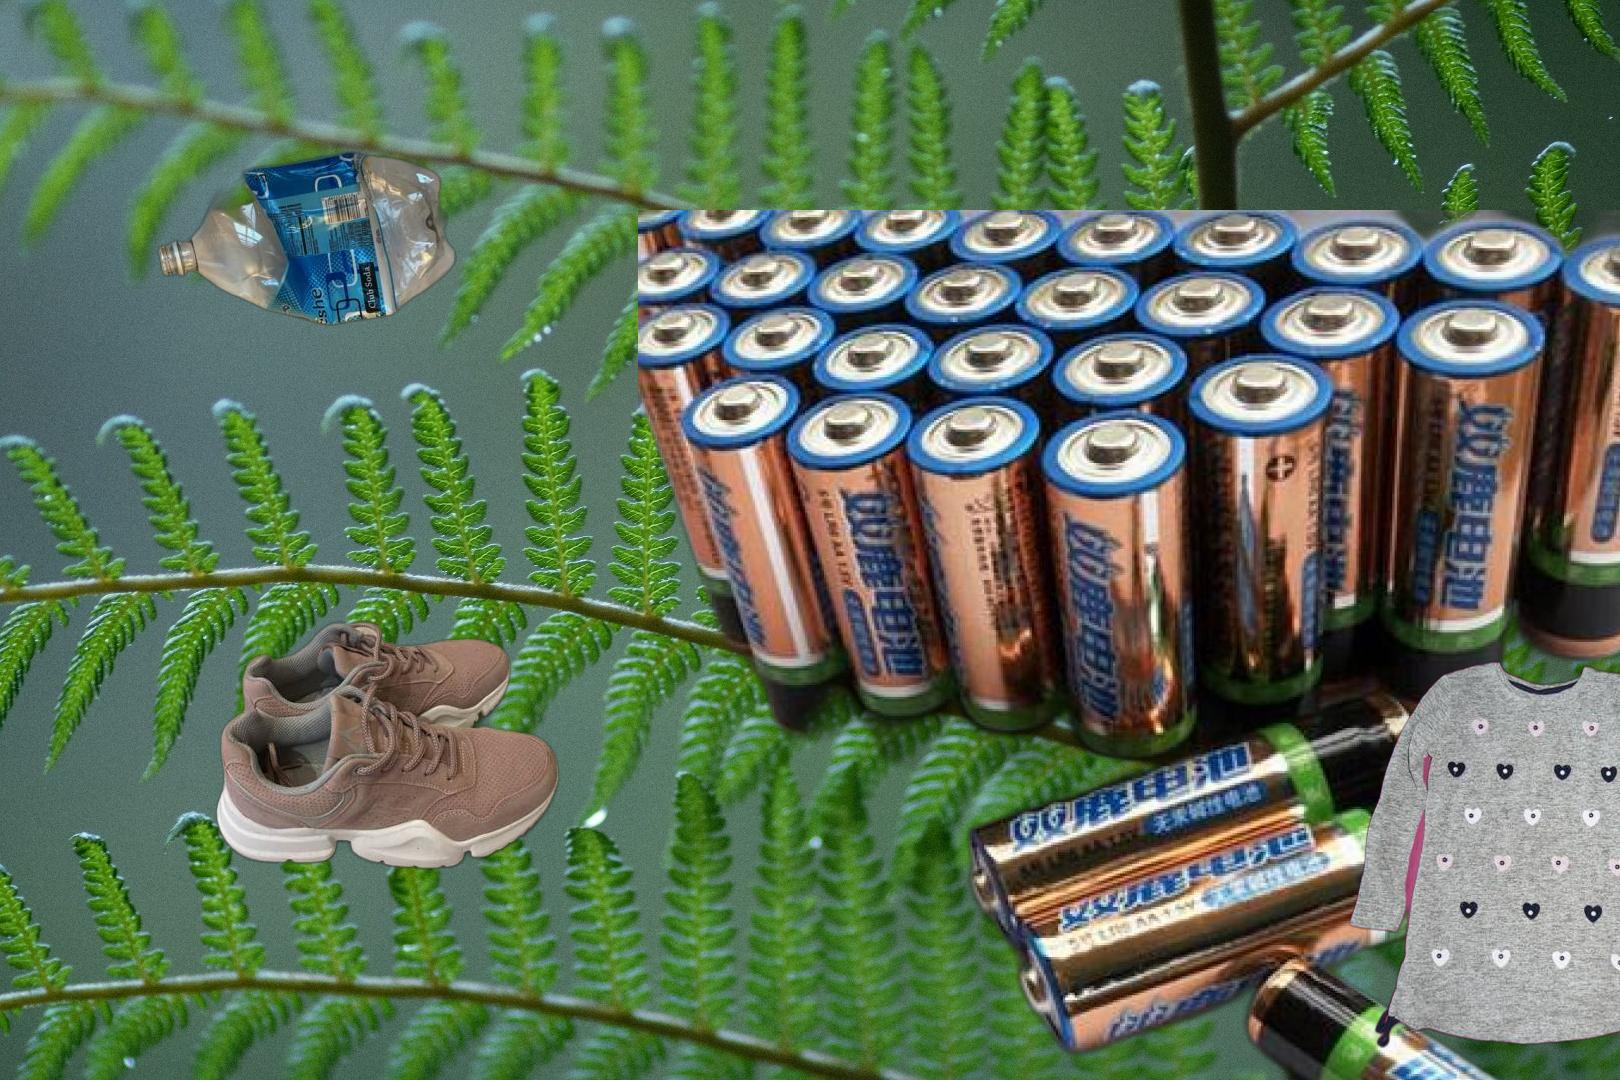battery: (638, 210, 1620, 1080)
clothes: (1346, 657, 1620, 1058)
plastic-bottles: (153, 121, 460, 329)
shoes: (215, 618, 563, 873)
